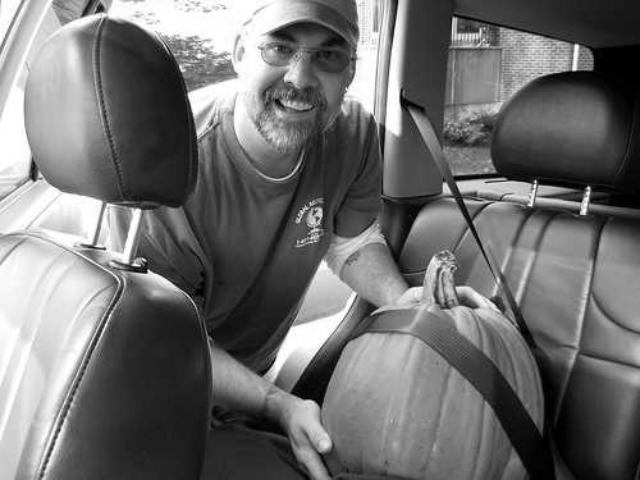SafeDriving: (259, 38, 296, 62), (312, 46, 346, 67)
Seatbelt: (344, 101, 550, 478)
